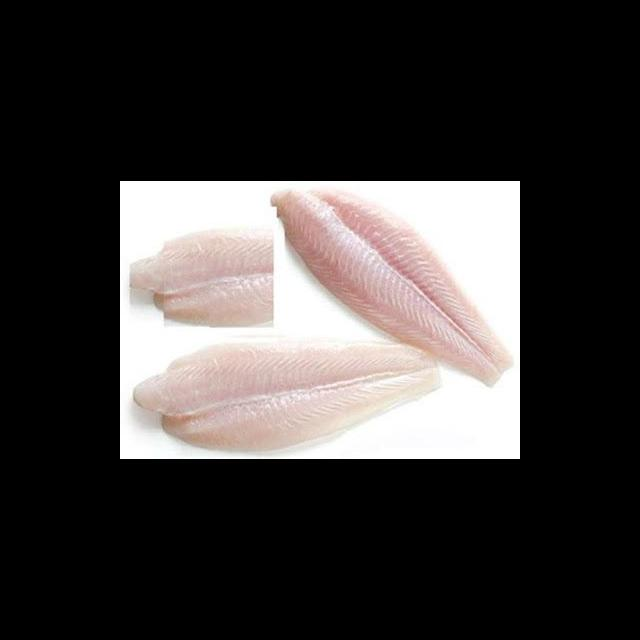fish: (270, 181, 520, 394), (120, 333, 448, 459)
